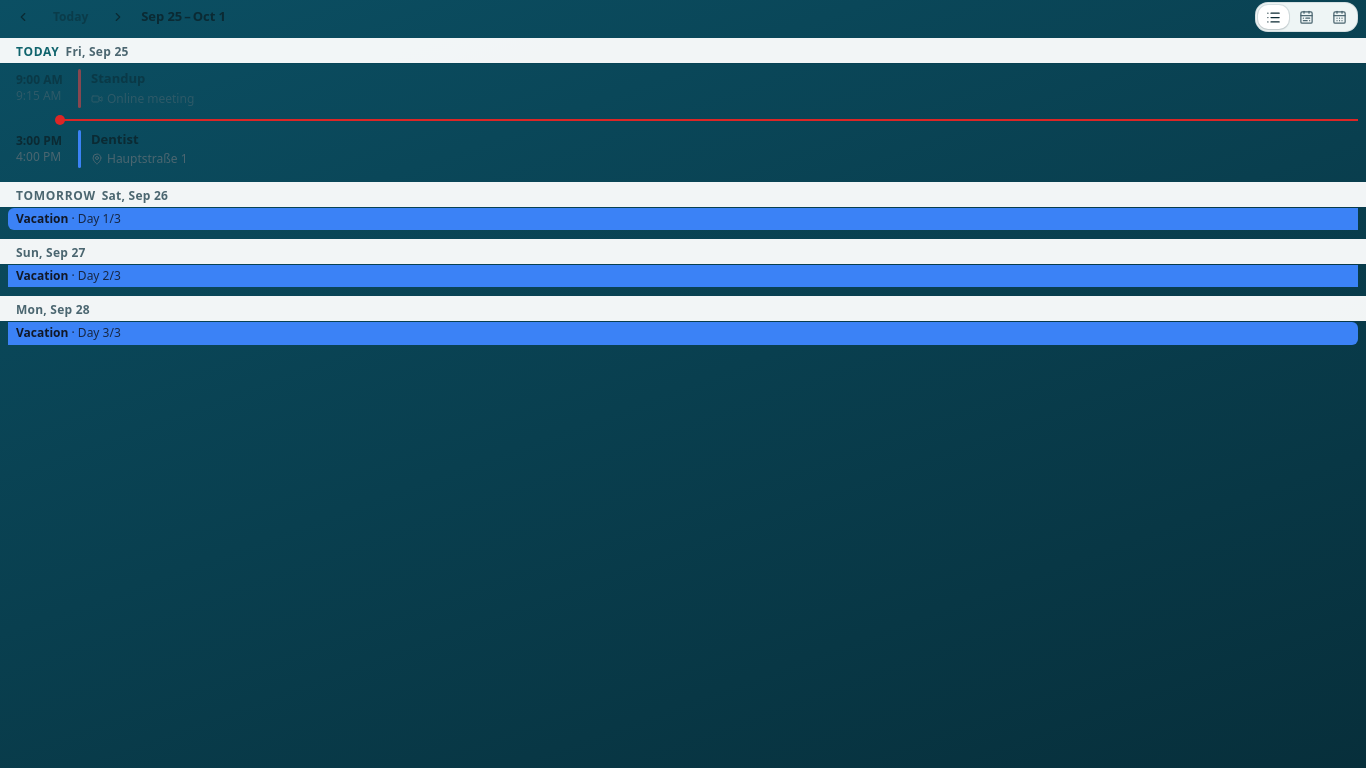
Test case: CalendarWidget — writes › notes that editing a recurring instance changes one occurrence and links to the series
Click the button with aria-label "Standup, " at {"x": 39, "y": 80}, box [8,63,1358,114]
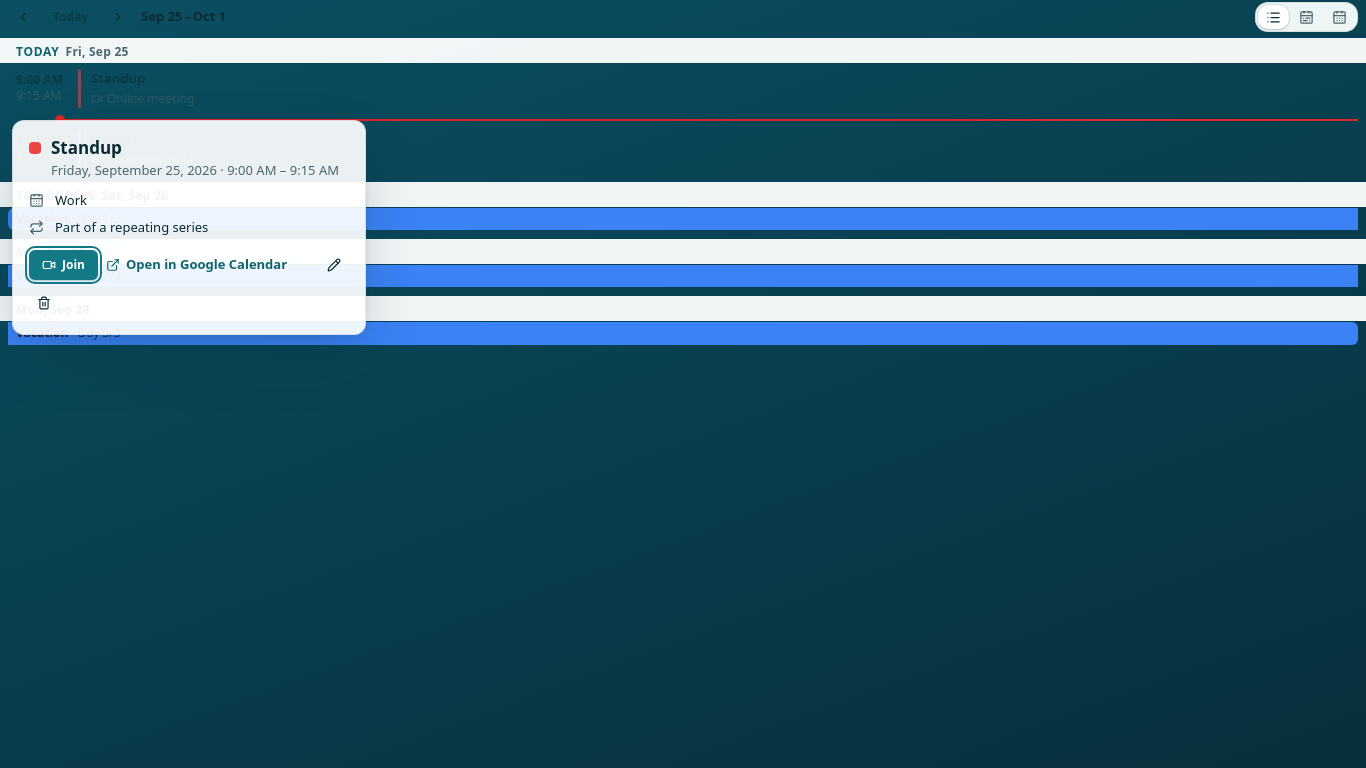
Click the button named "Edit event" at {"x": 334, "y": 265}, box [319,250,349,280]
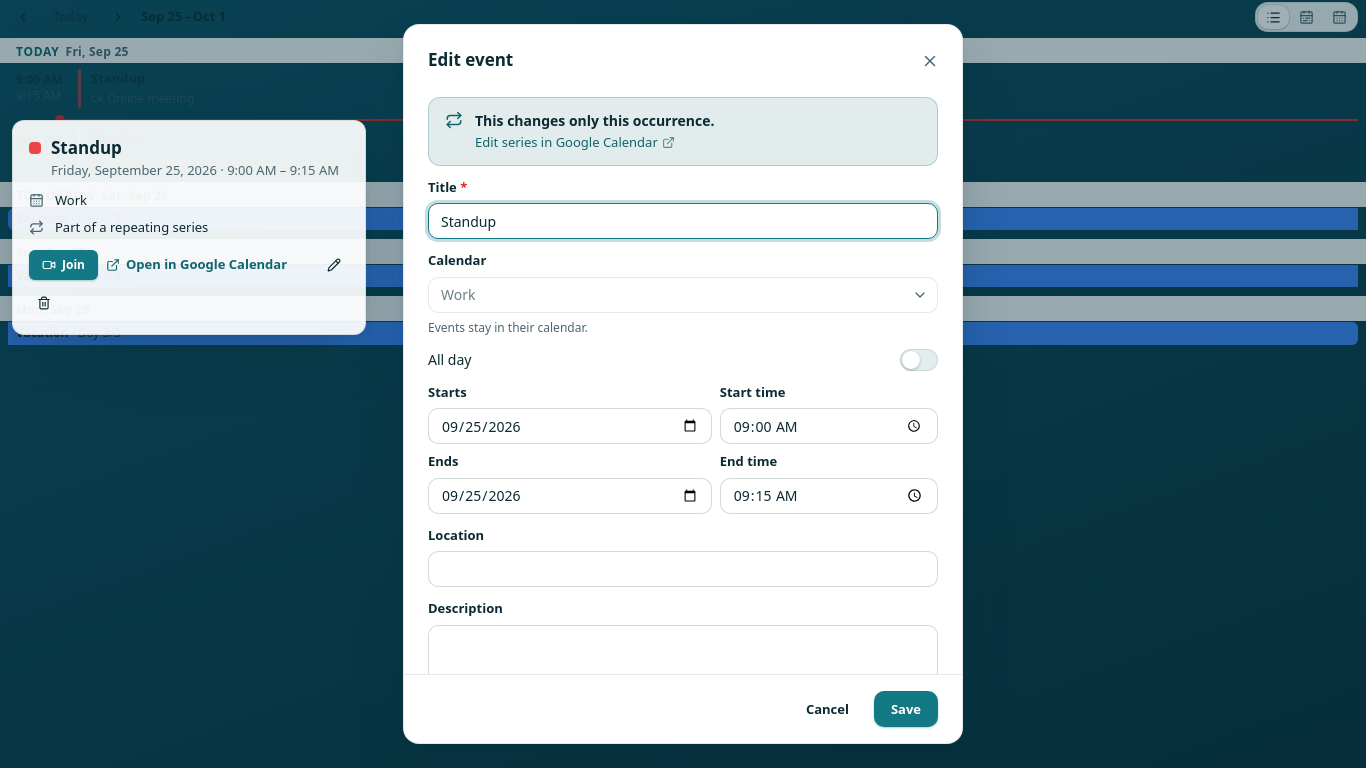
Now the text "This changes only this occurrence." is shown, box [475,111,714,130]
Now the field labelled "Title *" holds "Standup", box [428,203,938,239]
